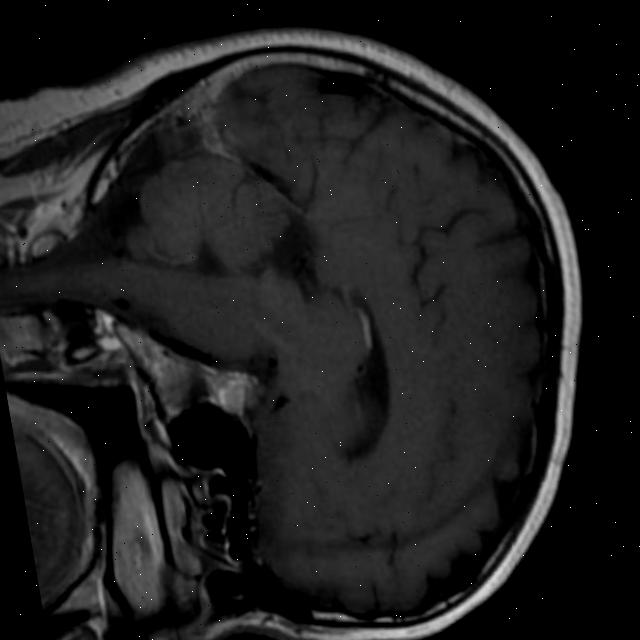Pituitary: (215, 377, 249, 421)
